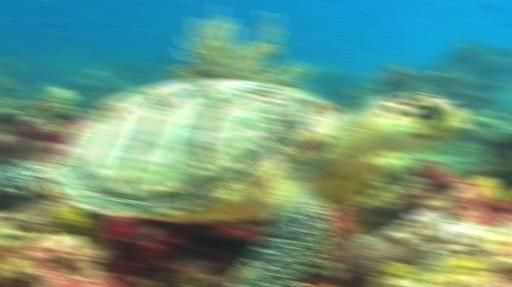Fish: (0, 79, 467, 286)
